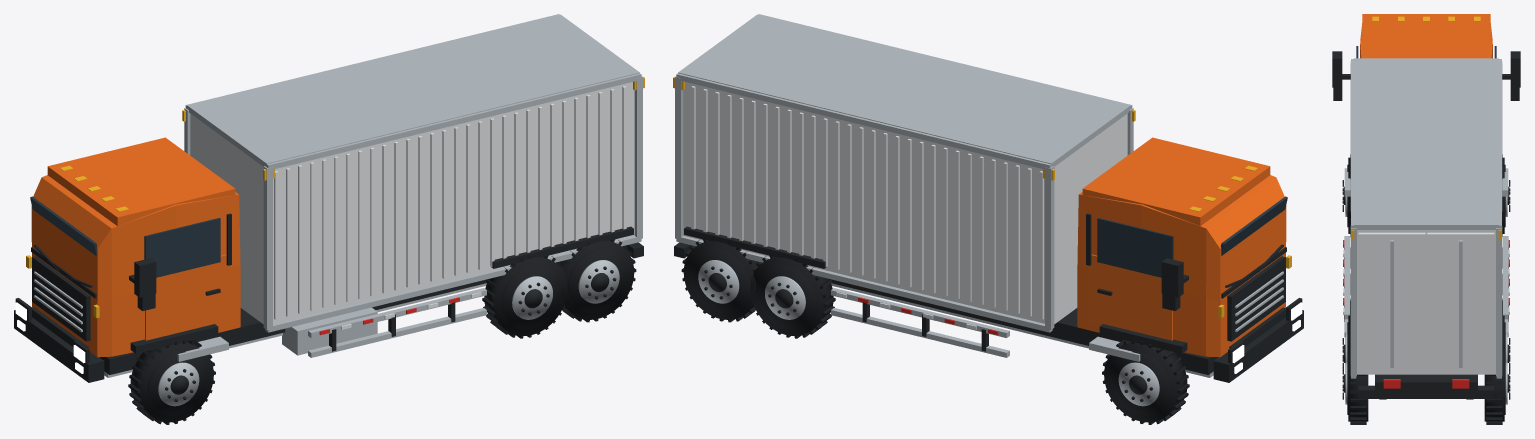
The model's file is kaizenx_truck_v3.glb.
3 renders of one model, left to right at view 1: azimuth 30°, elevation 25°; view 2: azimuth 150°, elevation 25°; view 3: azimuth 270°, elevation 25°, orthographic. The views are drawn at different scales.
Visible parts, largest first — view 1: White cargo box, Cargo roof edge, Sculpted aerodynamic cab shell, Cab roof soft crown, Cab door, Side glass, Long cargo frame rail.001, Long cargo frame rail, Black grille surround, Main ladder chassis, Fuel tank, Deep tire (+50 smaller); view 2: White cargo box, Cargo roof edge, Sculpted aerodynamic cab shell, Cab roof soft crown, Cab door.001, Side glass.001, Long cargo frame rail.003, Main ladder chassis, Long cargo frame rail.002, Black grille surround, Deep tire.001, Front bumper (+49 smaller); view 3: Cargo roof edge, Rear cargo door, Rear cargo door.001, Cab roof soft crown, Main ladder chassis, White cargo box, Container corner post.002, Container corner post.003, Rear bumper, Deep tire.004, Deep tire.005, Door lock rod (+7 smaller).
Part boxes in pixels (x1=…): White cargo box: x1=190, y1=82, x2=634, y2=324; Cargo roof edge: x1=187, y1=14, x2=639, y2=166; Sculpted aerodynamic cab shell: x1=31, y1=175, x2=240, y2=357; Cab roof soft crown: x1=47, y1=137, x2=235, y2=226; Cab door: x1=145, y1=254, x2=230, y2=340; Side glass: x1=144, y1=218, x2=220, y2=277; Long cargo frame rail.001: x1=266, y1=73, x2=641, y2=169; Long cargo frame rail: x1=265, y1=235, x2=641, y2=332; Black grille surround: x1=32, y1=256, x2=90, y2=341; Main ladder chassis: x1=100, y1=279, x2=488, y2=374; Fuel tank: x1=282, y1=307, x2=377, y2=355; Deep tire: x1=130, y1=341, x2=213, y2=422; White cargo box: x1=683, y1=82, x2=1127, y2=324; Cargo roof edge: x1=678, y1=14, x2=1130, y2=166; Sculpted aerodynamic cab shell: x1=1077, y1=175, x2=1286, y2=357; Cab roof soft crown: x1=1082, y1=137, x2=1270, y2=226; Cab door.001: x1=1087, y1=254, x2=1172, y2=340; Side glass.001: x1=1097, y1=218, x2=1173, y2=277; Long cargo frame rail.003: x1=676, y1=73, x2=1051, y2=169; Main ladder chassis: x1=829, y1=279, x2=1217, y2=374; Long cargo frame rail.002: x1=676, y1=235, x2=1052, y2=332; Black grille surround: x1=1227, y1=256, x2=1285, y2=341; Deep tire.001: x1=1104, y1=341, x2=1187, y2=422; Front bumper: x1=1213, y1=310, x2=1303, y2=382; Cargo roof edge: x1=1354, y1=58, x2=1498, y2=229; Rear cargo door: x1=1358, y1=232, x2=1425, y2=371; Rear cargo door.001: x1=1427, y1=232, x2=1494, y2=371; Cab roof soft crown: x1=1362, y1=14, x2=1490, y2=58; Main ladder chassis: x1=1375, y1=374, x2=1477, y2=396; White cargo box: x1=1357, y1=230, x2=1495, y2=374; Container corner post.002: x1=1350, y1=226, x2=1356, y2=376; Container corner post.003: x1=1496, y1=226, x2=1502, y2=376; Rear bumper: x1=1358, y1=385, x2=1494, y2=398; Deep tire.004: x1=1348, y1=345, x2=1368, y2=421; Deep tire.005: x1=1484, y1=345, x2=1504, y2=421; Door lock rod: x1=1390, y1=240, x2=1393, y2=367.
Size of what is drawn, in the model's own units: 10.33 by 4.18 by 3.29.
